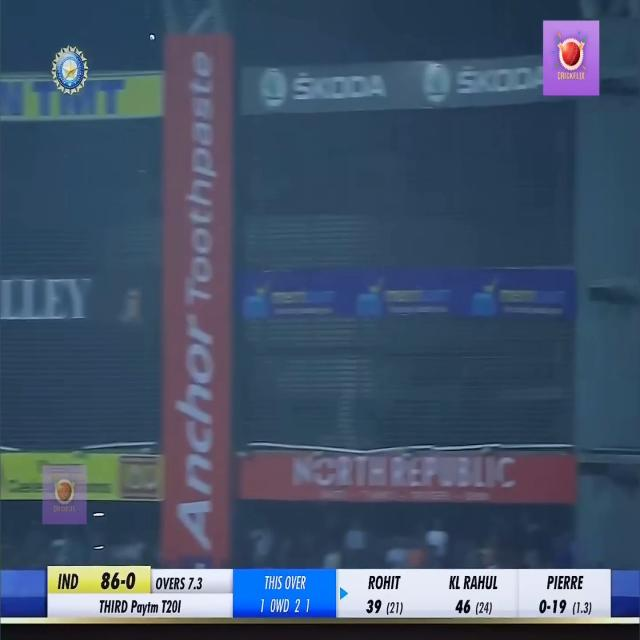fully_visible: (126, 599, 162, 618)
